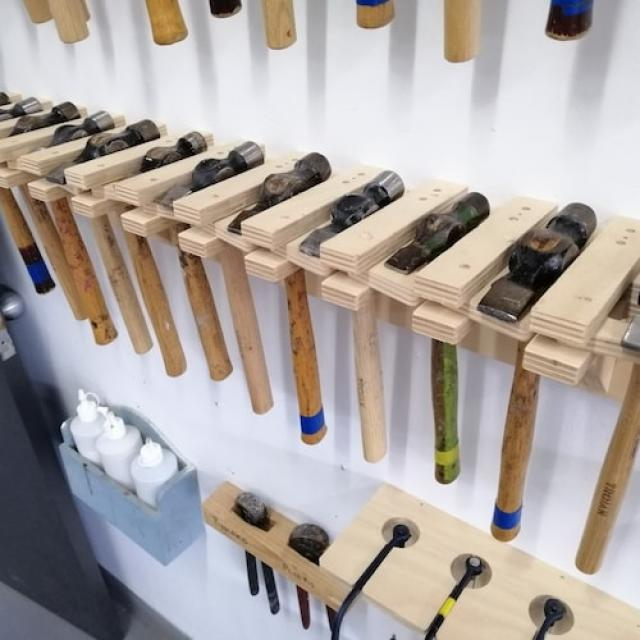hammer: (474, 178, 604, 585), (53, 111, 165, 427), (304, 162, 408, 502), (388, 184, 494, 512), (230, 148, 336, 470), (167, 138, 282, 426)
